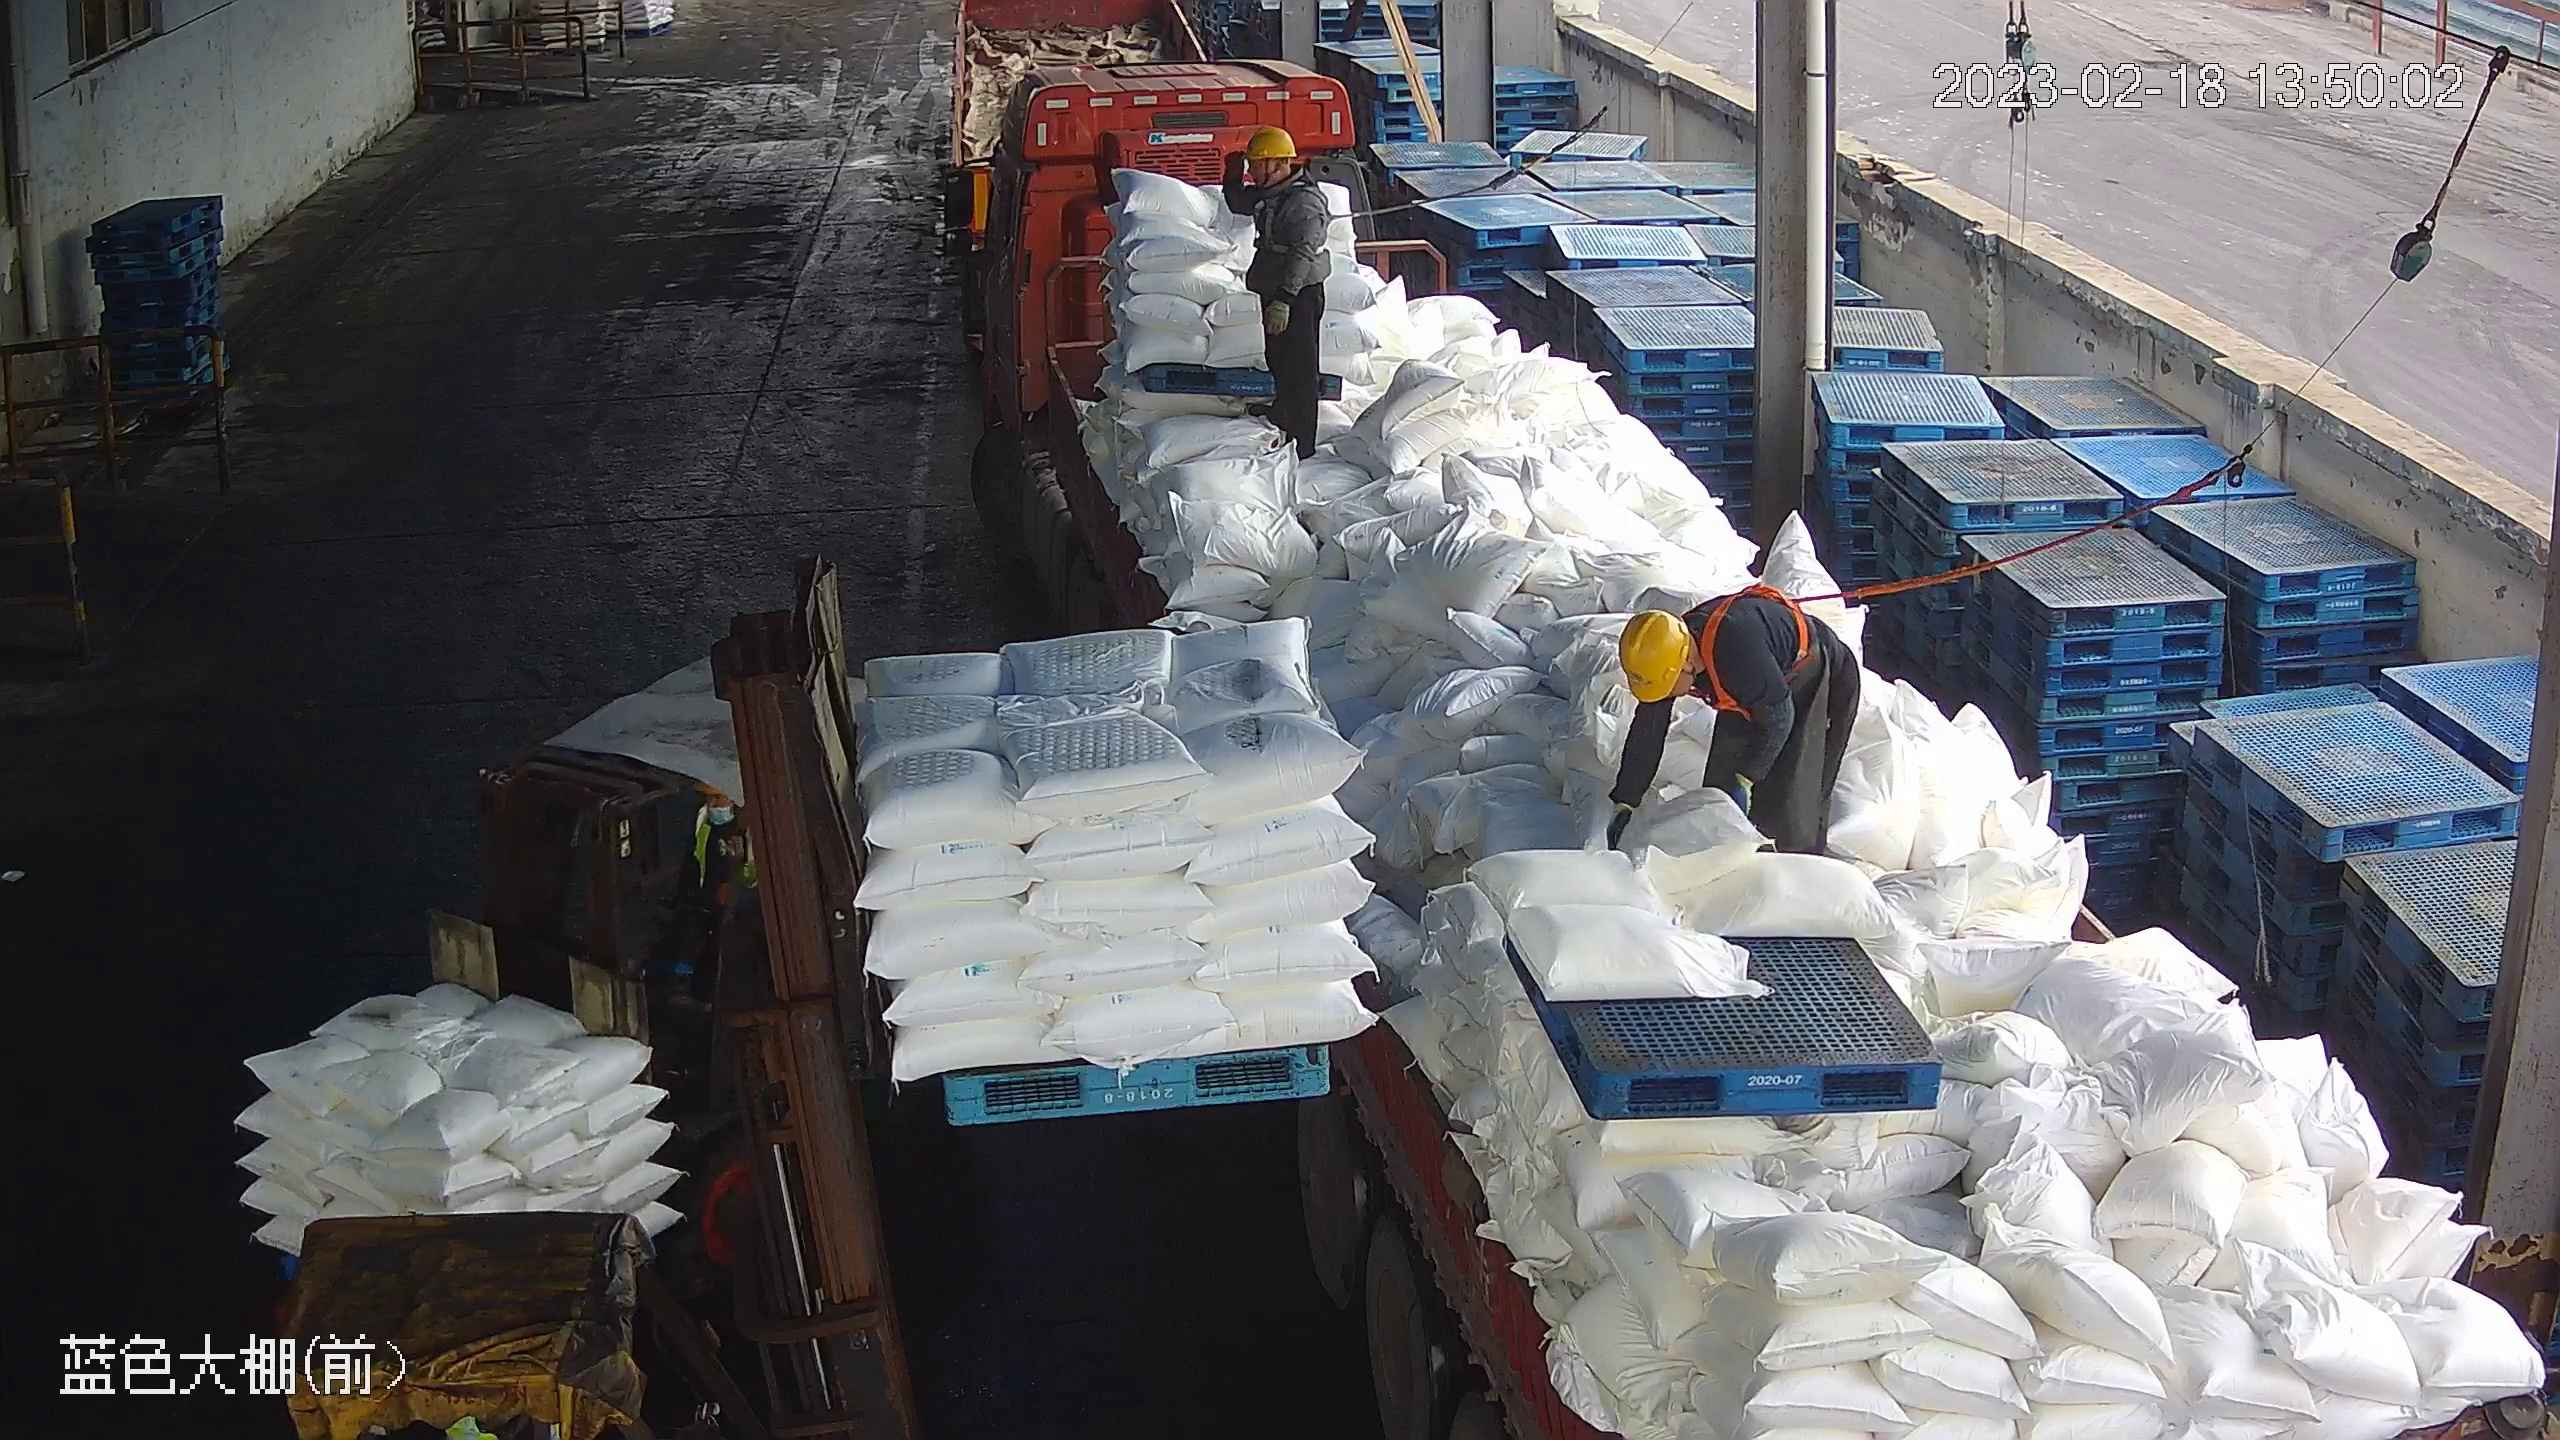belt: (1688, 574, 1818, 719), (1266, 174, 1348, 255)
head: (1613, 591, 1781, 731), (1242, 126, 1334, 231)
helmet: (1616, 605, 1690, 701), (1242, 123, 1298, 162)
people: (1599, 587, 1863, 864), (1235, 124, 1338, 461)
truck: (926, 41, 2552, 1440)
